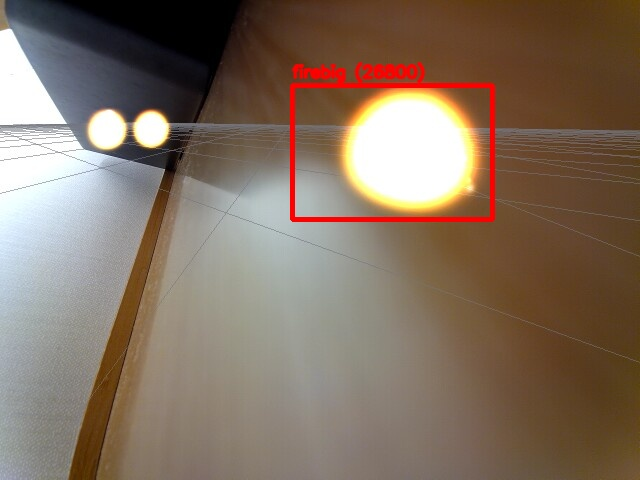firebig: (292, 85, 492, 219)
